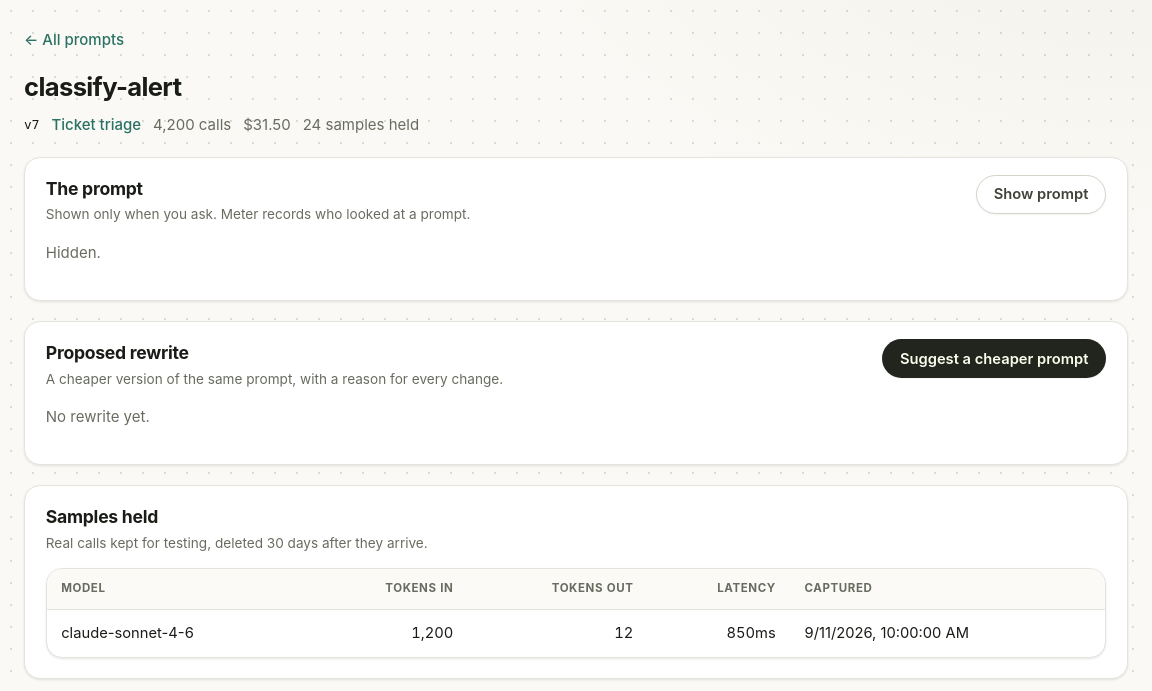
Test: Prompt detail › asks for a rewrite and shows it beside the prompt, with its reasons
Step 1. Click the button "Suggest a cheaper prompt" → (994, 359), box [882,339,1106,378]
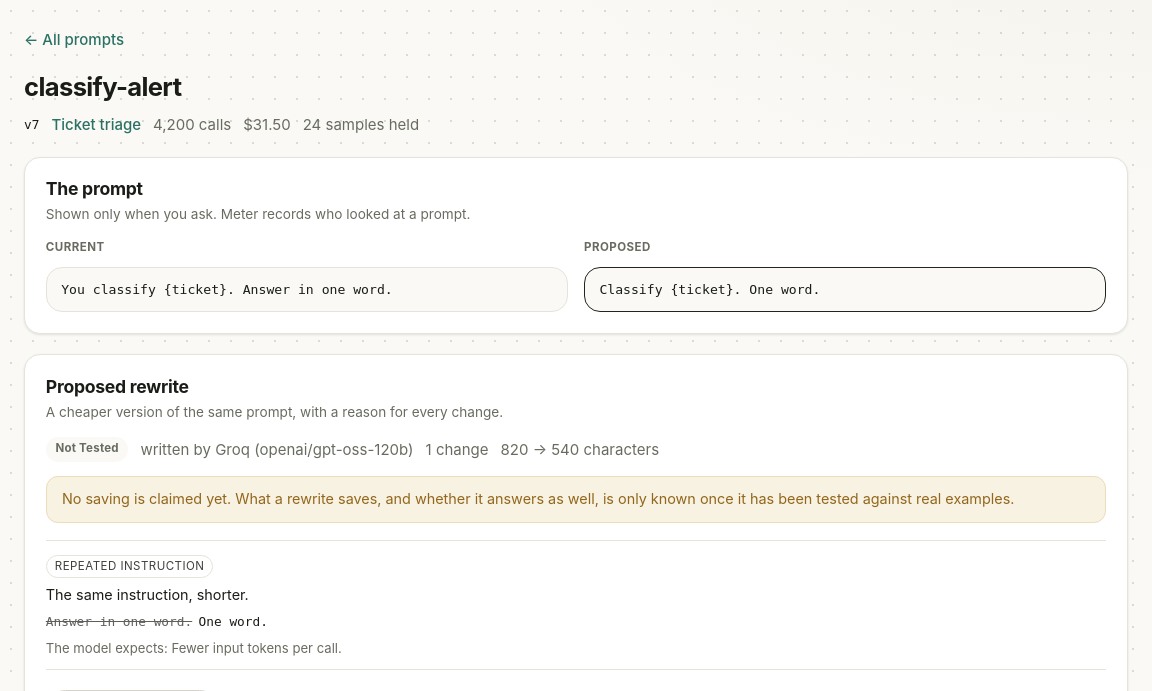
Expected: the text "Classify {ticket}. One word." is shown, [584,267,1106,312]
Expected: the text "Repeated instruction" is shown, [46,555,213,578]
Expected: the text "The same instruction, shorter." is shown, [46,586,249,604]
